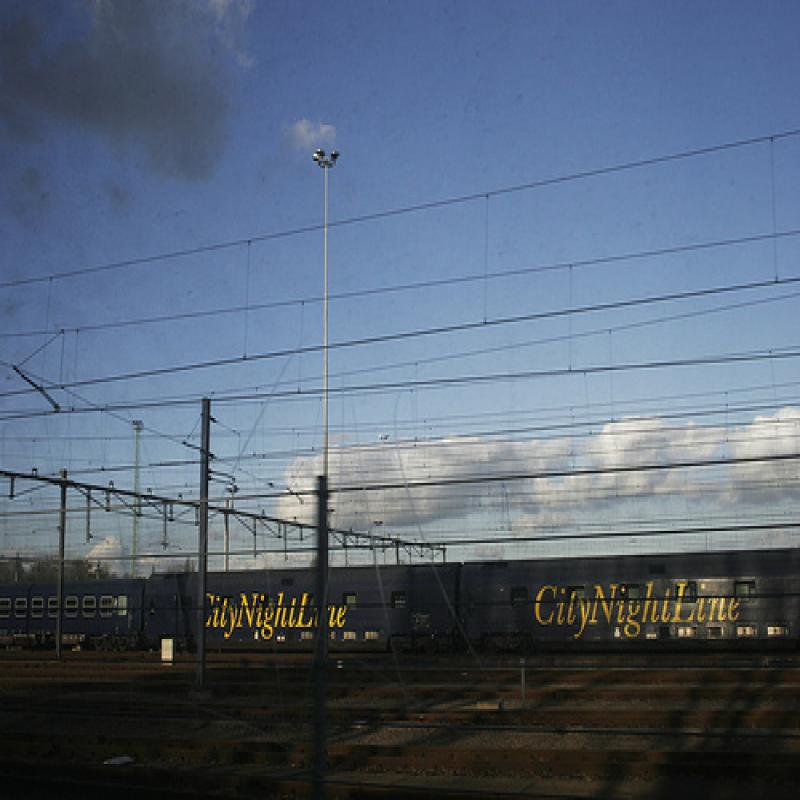train: (1, 541, 799, 666)
